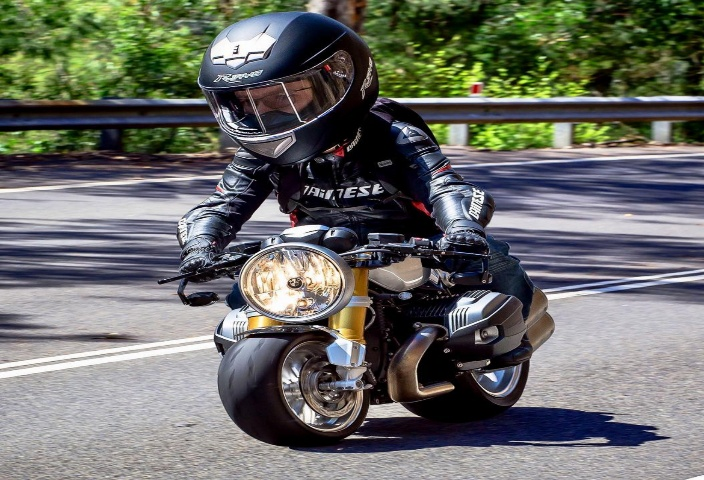motorcycle: (154, 26, 575, 445)
